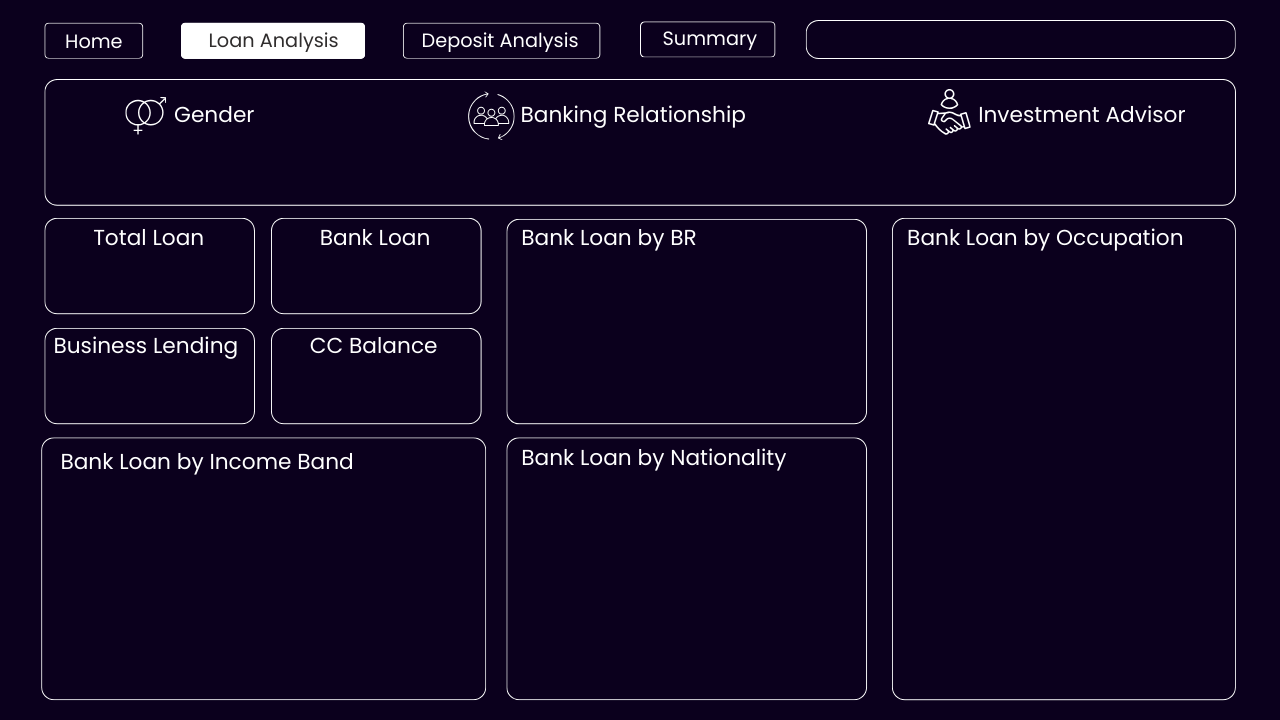

The dashboard page shown, as its layout file describes it:
{"tool":"powerbi","page":{"name":"Loan Analysis","canvas":[1280,720],"ordinal":1},"visuals":[{"type":"slicer","fields":{"Values":["banking_case customer.Year of Joining"]},"box":[843,17,360,45],"z":0},{"type":"actionButton","box":[44,22,100,38],"z":1000},{"type":"actionButton","box":[402,22,200,38],"z":2000},{"type":"actionButton","box":[640,20,135,40],"z":3000},{"type":"card","fields":{"Values":["Sum(banking_case customer.Bank Loans)"]},"box":[255,242,231,61],"z":4000},{"type":"card","fields":{"Values":["banking_case customer.Total Loan"]},"box":[28,242,231,61],"z":5000},{"type":"card","fields":{"Values":["Sum(banking_case customer.Business Lending)"]},"box":[28,350,231,61],"z":6000},{"type":"card","fields":{"Values":["Sum(banking_case customer.Credit Card Balance)"]},"box":[259,350,231,61],"z":7000},{"type":"donutChart","fields":{"Category":["banking_case customer.Income Band"],"Y":["Sum(banking_case customer.Bank Loans)"]},"box":[68,476,395,213],"z":8000},{"type":"clusteredColumnChart","fields":{"Category":["banking_case customer.BRId"],"Y":["Sum(banking_case customer.Bank Loans)"]},"box":[512,229,352,205],"z":9000},{"type":"clusteredColumnChart","fields":{"Category":["banking_case customer.Nationality"],"Y":["Sum(banking_case customer.Bank Loans)"]},"box":[512,476,352,220],"z":10000},{"type":"clusteredColumnChart","fields":{"Category":["banking_case customer.Occupation"],"Y":["Sum(banking_case customer.Bank Loans)"]},"box":[896,247,340,449],"z":11000},{"type":"slicer","fields":{"Values":["banking_case customer.BRId"]},"box":[411,150,439,40],"z":12000},{"type":"slicer","fields":{"Values":["banking_case customer.GenderId"]},"box":[94,150,212,39],"z":13000},{"type":"slicer","fields":{"Values":["banking_case investment_advisor.Investment Advisor"]},"box":[954,143,223,53],"z":14000}]}

Visuals, with their boxes in screenshot pixels (x1, y1, x2, y2), scaled from the page's 1280x720 canvas onto the 1280x720 screenshot:
slicer - banking_case customer.Year of Joining: x1=843 y1=17 x2=1203 y2=62
actionButton: x1=44 y1=22 x2=144 y2=60
actionButton: x1=402 y1=22 x2=602 y2=60
actionButton: x1=640 y1=20 x2=775 y2=60
card - Sum(banking_case customer.Bank Loans): x1=255 y1=242 x2=486 y2=303
card - banking_case customer.Total Loan: x1=28 y1=242 x2=259 y2=303
card - Sum(banking_case customer.Business Lending): x1=28 y1=350 x2=259 y2=411
card - Sum(banking_case customer.Credit Card Balance): x1=259 y1=350 x2=490 y2=411
donutChart - banking_case customer.Income Band x Sum(banking_case customer.Bank Loans): x1=68 y1=476 x2=463 y2=689
clusteredColumnChart - banking_case customer.BRId x Sum(banking_case customer.Bank Loans): x1=512 y1=229 x2=864 y2=434
clusteredColumnChart - banking_case customer.Nationality x Sum(banking_case customer.Bank Loans): x1=512 y1=476 x2=864 y2=696
clusteredColumnChart - banking_case customer.Occupation x Sum(banking_case customer.Bank Loans): x1=896 y1=247 x2=1236 y2=696
slicer - banking_case customer.BRId: x1=411 y1=150 x2=850 y2=190
slicer - banking_case customer.GenderId: x1=94 y1=150 x2=306 y2=189
slicer - banking_case investment_advisor.Investment Advisor: x1=954 y1=143 x2=1177 y2=196
